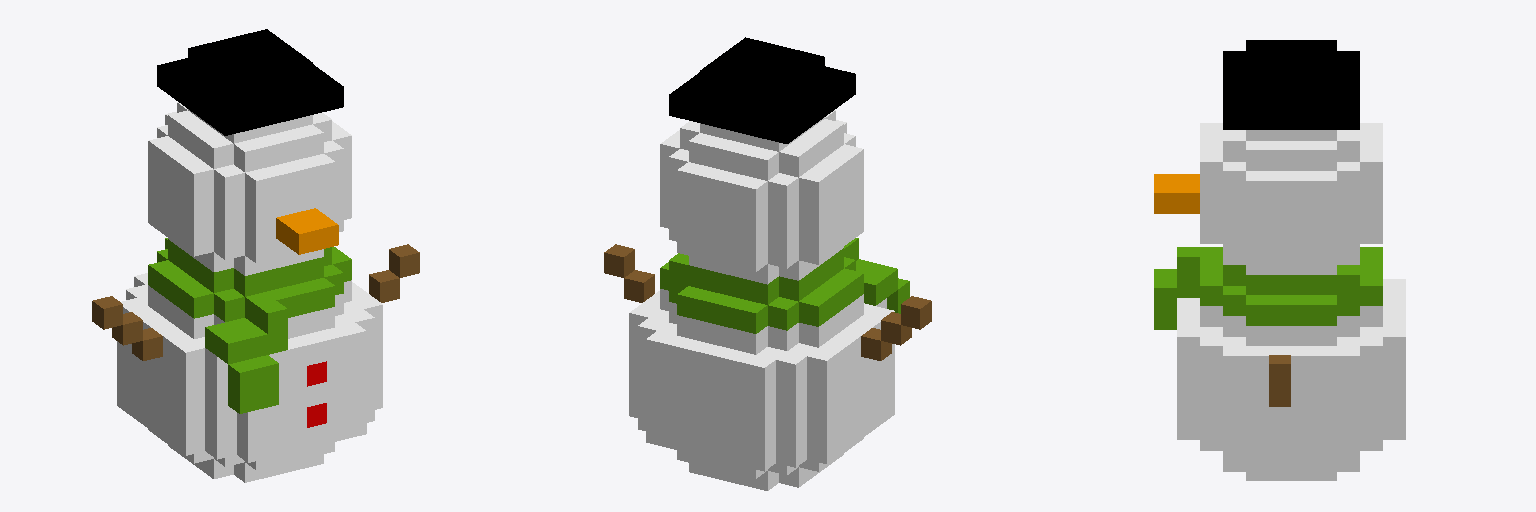
3 views of the same model, side by side, from view 1: azimuth 30°, elevation 25°; view 2: azimuth 150°, elevation 25°; view 3: azimuth 270°, elevation 25° (orthographic).
Visible parts, largest first — view 1: pre_snowman; view 2: pre_snowman; view 3: pre_snowman.
Part boxes in pixels (x1,y1,x2,y2): pre_snowman: (92, 29, 419, 482); pre_snowman: (604, 37, 931, 490); pre_snowman: (1154, 40, 1405, 480).
Bounding box in the file's own units: 16 × 19 × 11.
Materials: 1 (1 with a texture image).